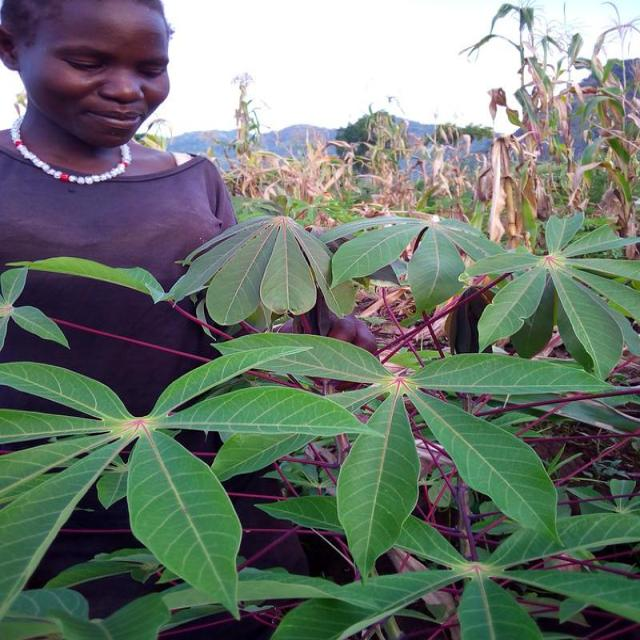cassava leaf: (2, 209, 639, 638), (126, 426, 244, 620), (336, 385, 422, 581)
